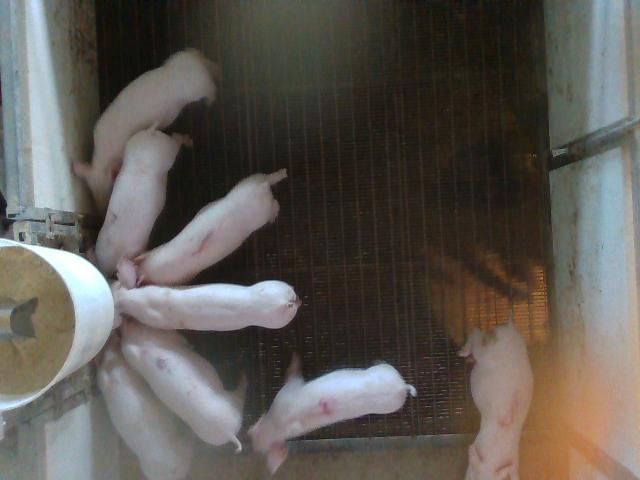pig-1: (135, 169, 286, 284)
pig-3: (460, 320, 534, 478)
pig-4: (249, 354, 416, 473)
